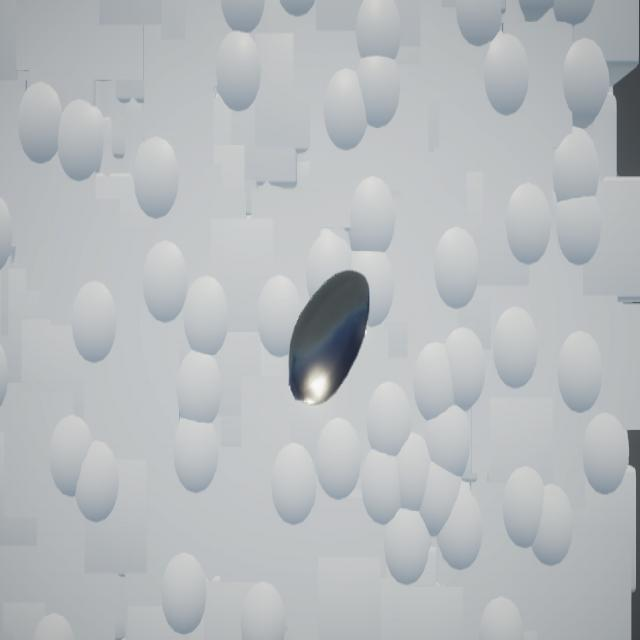top_spoon: (290, 272, 371, 407)
